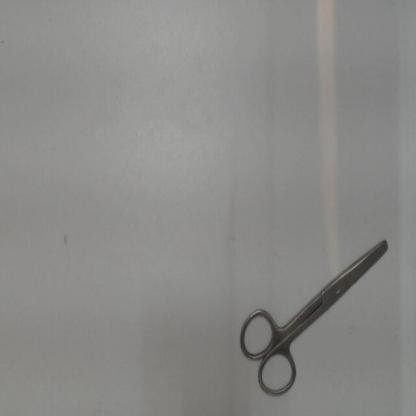Dressing Scissors: (226, 226, 400, 408)
